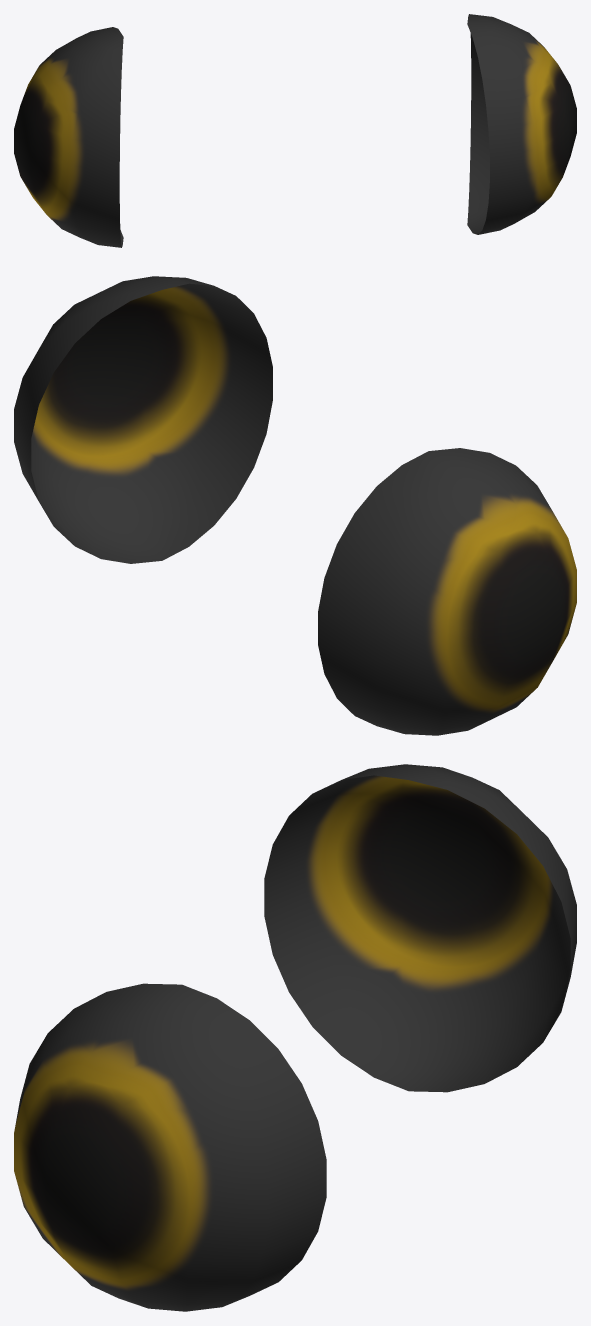
The model's file is eyes.obj.
3 views of the same model, one above another, from view 1: azimuth 30°, elevation 25°; view 2: azimuth 150°, elevation 25°; view 3: azimuth 270°, elevation 25° (orthographic). The views are drawn at different scales.
Visible parts, largest first — view 1: polySurface1_eyes_0, polySurface2_eyes_0; view 2: polySurface1_eyes_0, polySurface2_eyes_0; view 3: polySurface1_eyes_0, polySurface2_eyes_0.
Boxes of the visible parts, x1,y1,x2,y2 form: polySurface1_eyes_0: (467, 14, 576, 234); polySurface2_eyes_0: (14, 27, 123, 247); polySurface1_eyes_0: (14, 276, 272, 563); polySurface2_eyes_0: (318, 448, 576, 735); polySurface1_eyes_0: (14, 983, 326, 1311); polySurface2_eyes_0: (264, 764, 576, 1092).
Bounding box in the file's own units: 0.1109 × 0.0462 × 0.0758.
